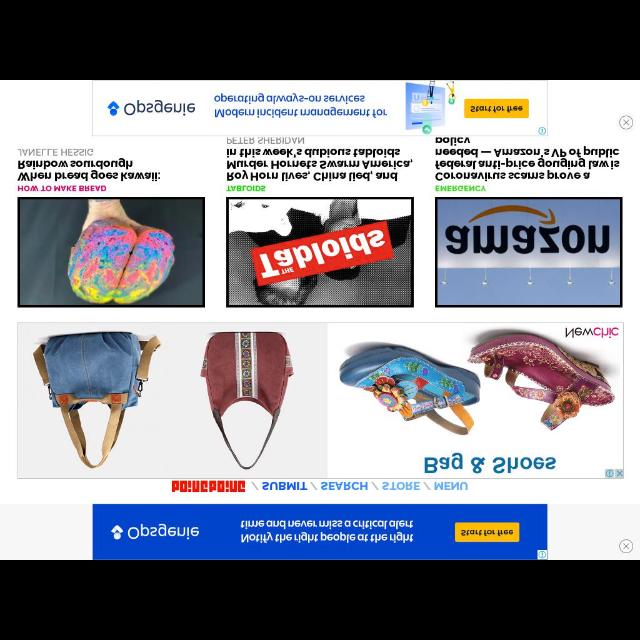icon: (618, 540, 634, 552), (620, 116, 632, 130)
iframe: (328, 322, 624, 480), (93, 81, 547, 137), (93, 505, 547, 559)
image: (19, 324, 327, 480), (18, 198, 206, 308), (227, 199, 413, 307), (436, 199, 622, 307), (171, 478, 247, 494)
text: (436, 135, 622, 183), (227, 145, 413, 181), (18, 158, 160, 184), (227, 136, 305, 146), (18, 185, 106, 193), (18, 148, 96, 156), (262, 480, 308, 492), (320, 482, 370, 492), (226, 184, 268, 194), (435, 184, 487, 192), (383, 480, 421, 490), (434, 481, 468, 492)
